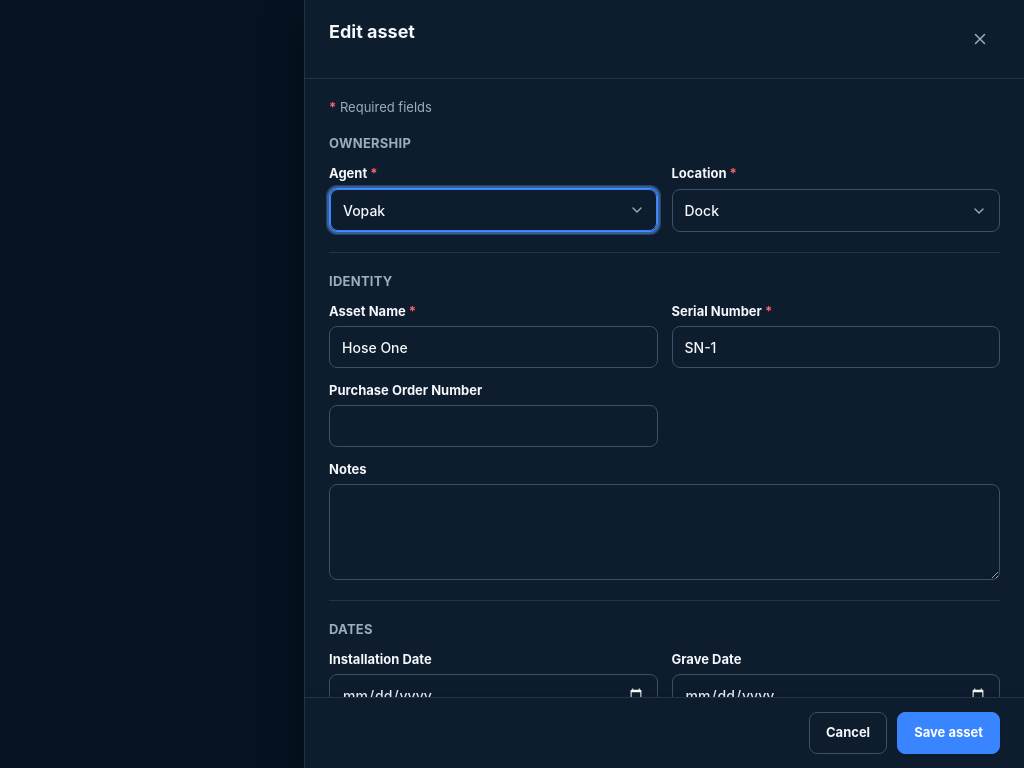
Test: shared form behaviour on the Asset form › returns to clean after a successful save and removes the unload prompt
Type "X" into the field labelled "Serial Number". click: (836, 347)
box: left=672, top=326, right=1000, bottom=368
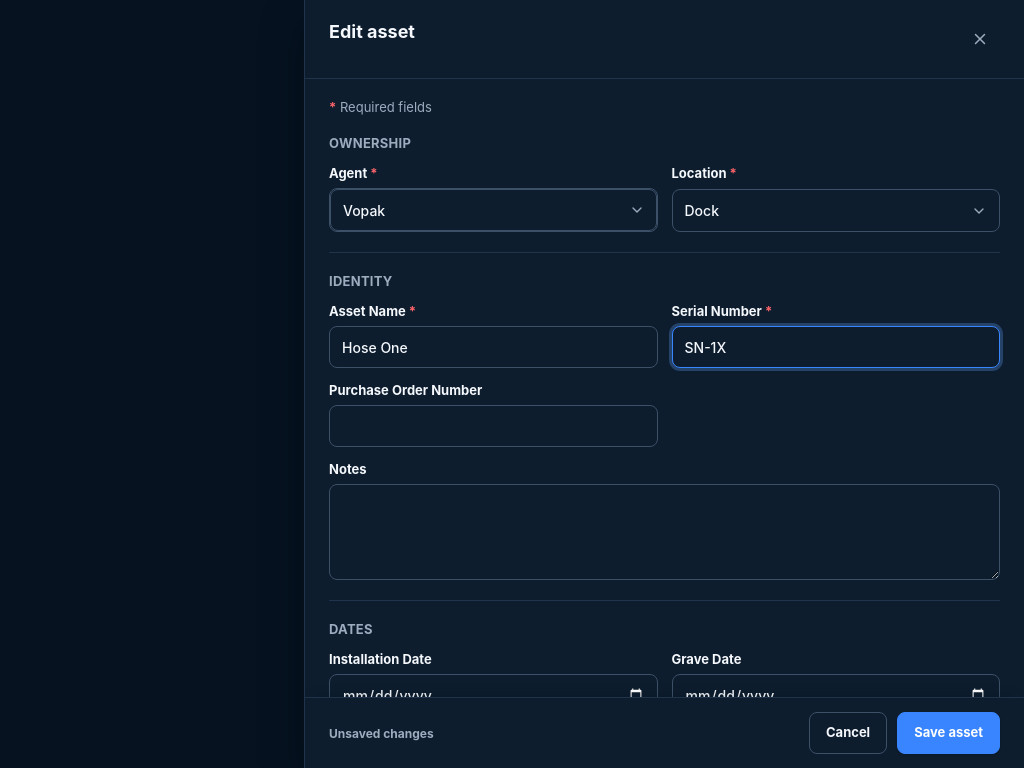
Click the button "Save asset". click: (949, 733)
box: left=897, top=712, right=1000, bottom=754
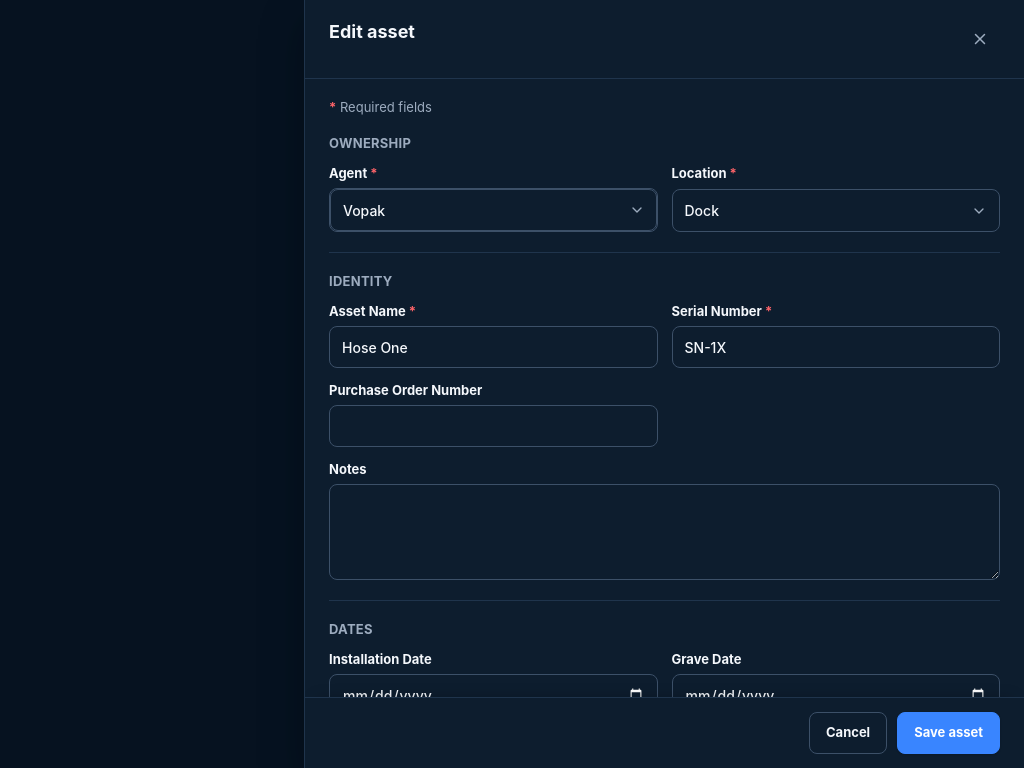
Now the text "Unsaved changes" is gone
